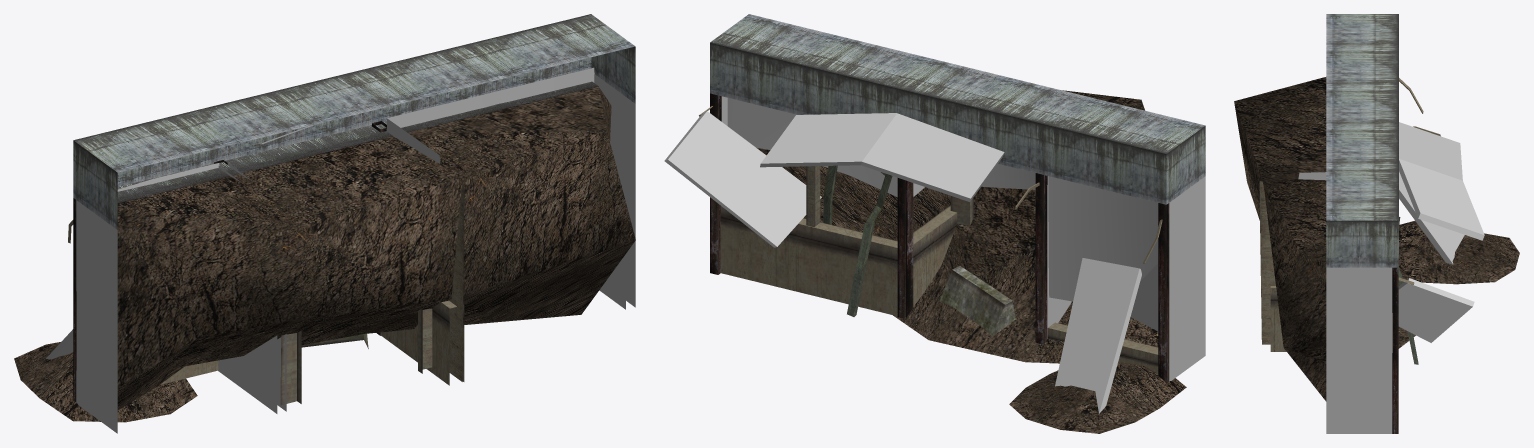
The model's file is Store_front_34.fbx.
3 renders of one model, left to right at view 1: azimuth 30°, elevation 25°; view 2: azimuth 150°, elevation 25°; view 3: azimuth 270°, elevation 25°, orthographic. The views are drawn at different scales.
Visible parts, largest first — view 1: Store_front_34; view 2: Store_front_34; view 3: Store_front_34.
Boxes of the visible parts, x1,y1,x2,y2 form: Store_front_34: (14, 14, 635, 433); Store_front_34: (664, 14, 1205, 433); Store_front_34: (1234, 14, 1519, 433).
Bounding box in the file's own units: 726 × 358 × 409.
